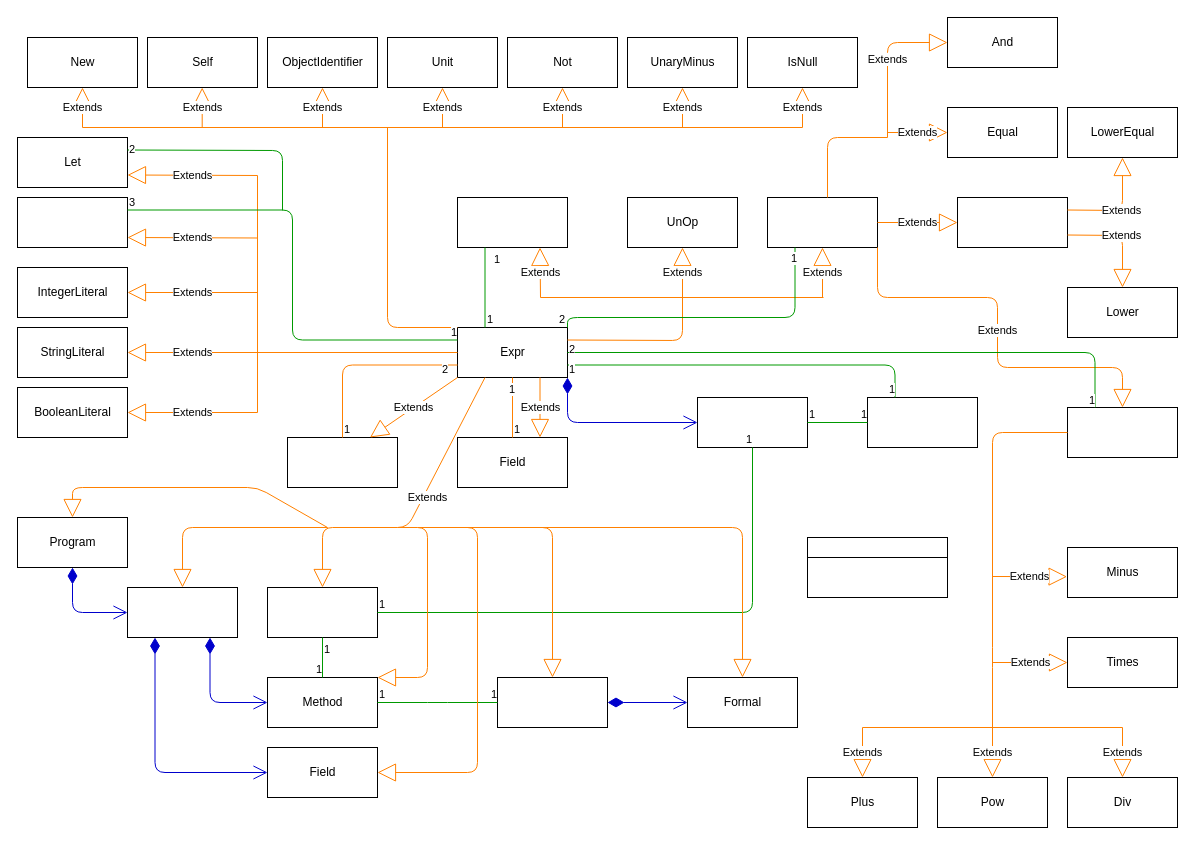
Image size: 1195x845. Some labels were removed from this diagram. The centre of each missing label's shape, as x and y in pixels:
"Args" goes at [752,422].
"ArithmeticBinOp" goes at [1122,432].
"Assign" goes at [512,222].
"BinaryComparison" goes at [1012,222].
"BinOp" goes at [822,222].
"Block" goes at [322,612].
"Call" goes at [922,422].
"Class" goes at [182,612].
"constraints {number of instances = 1}" goes at [877,577].
"Formals" goes at [552,702].
"If" goes at [72,222].
"LLVM" goes at [877,547].
"While" goes at [342,462].
